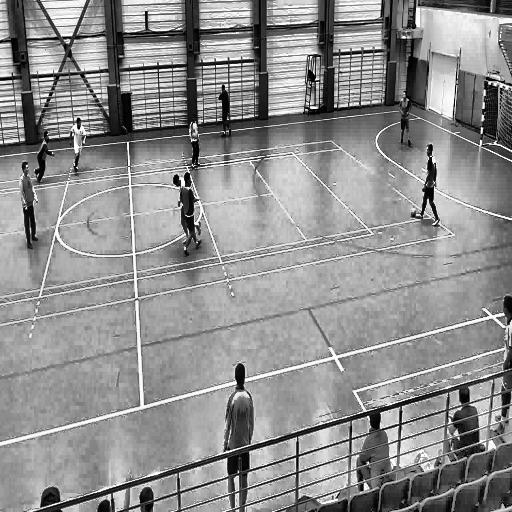ball: (411, 203, 418, 219)
player: (222, 357, 256, 512), (356, 405, 394, 494), (443, 376, 480, 457), (418, 142, 442, 232), (173, 169, 202, 242), (18, 160, 40, 252), (180, 172, 203, 258), (32, 128, 57, 187), (68, 113, 88, 180), (216, 82, 236, 142), (398, 90, 415, 153), (188, 113, 202, 173)
